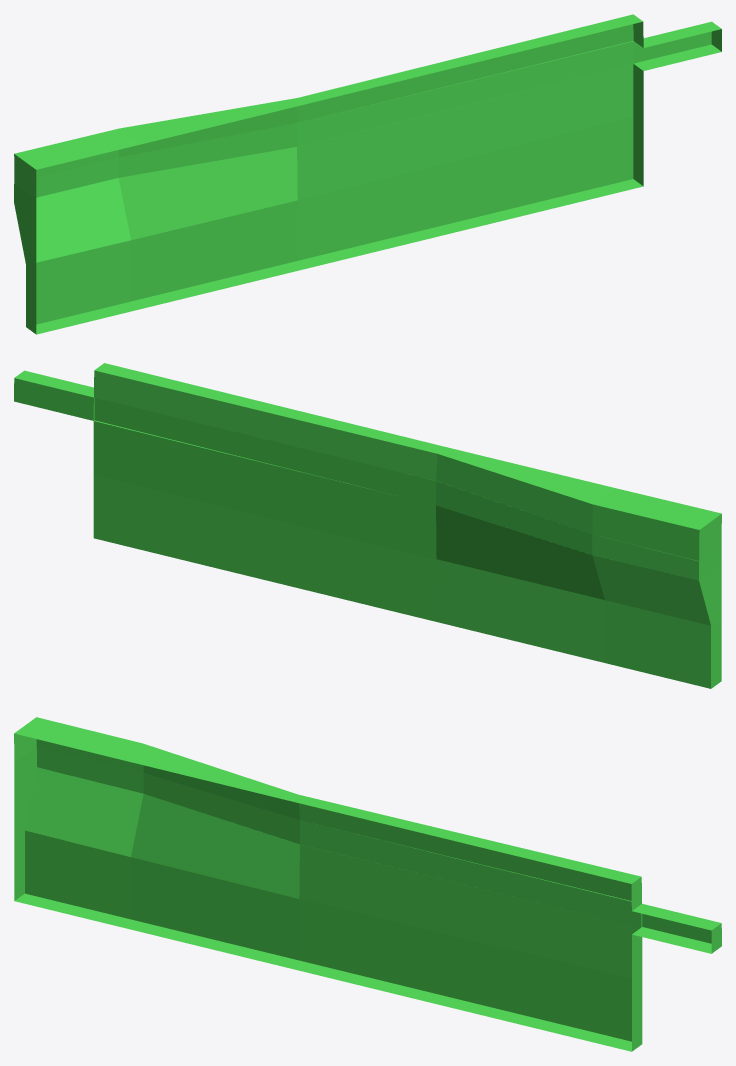
Rendered from wygierthuhhoihoihiy.fbx.
The picture shows the model from 3 angles, top to bottom: view 1: azimuth 30°, elevation 25°; view 2: azimuth 150°, elevation 25°; view 3: azimuth 330°, elevation 25°; orthographic projection.
Visible parts, largest first — view 1: Cube.350; view 2: Cube.350; view 3: Cube.350.
Part boxes in pixels (x1,y1,x2,y2): Cube.350: [14, 14, 721, 334]; Cube.350: [14, 363, 721, 688]; Cube.350: [14, 717, 721, 1051].
Size of the model in its own units: 315 by 72.36 by 17.95.
